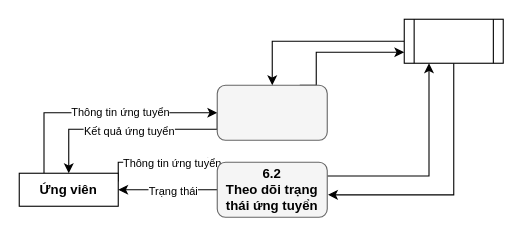
Some shapes in this 523 by 237 pixel diagram are drawn without their labels. The centre of each missing label's shape, as x and y in pixels:
"6.1 Ứng tuyển công việc" goes at (271,112).
"Công việc" goes at (453,40).
